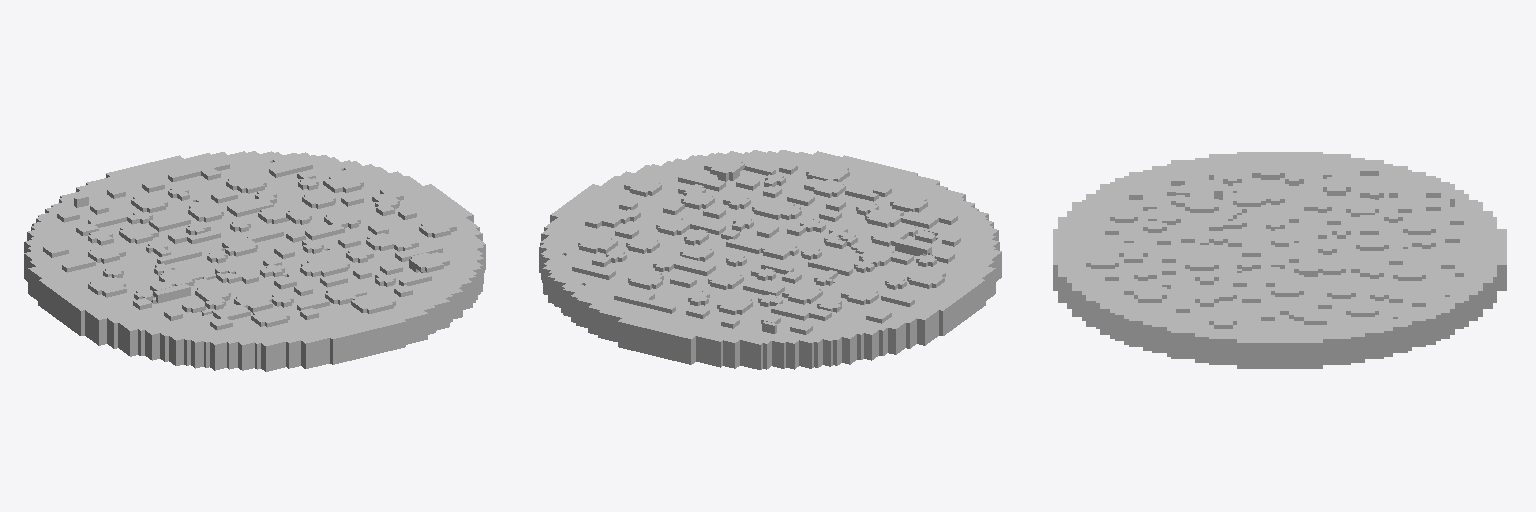
File: Paella.obj
3 views of the same model, side by side, from view 1: azimuth 30°, elevation 25°; view 2: azimuth 150°, elevation 25°; view 3: azimuth 270°, elevation 25° (orthographic).
Parts seen in each view (by area): view 1: object 1; view 2: object 1; view 3: object 1.
Part boxes in pixels (x1,y1,x2,y2): object 1: (24, 151, 485, 371); object 1: (539, 150, 1001, 369); object 1: (1053, 152, 1506, 368).
Size of the model in its own units: 9.6 by 0.8 by 9.6.